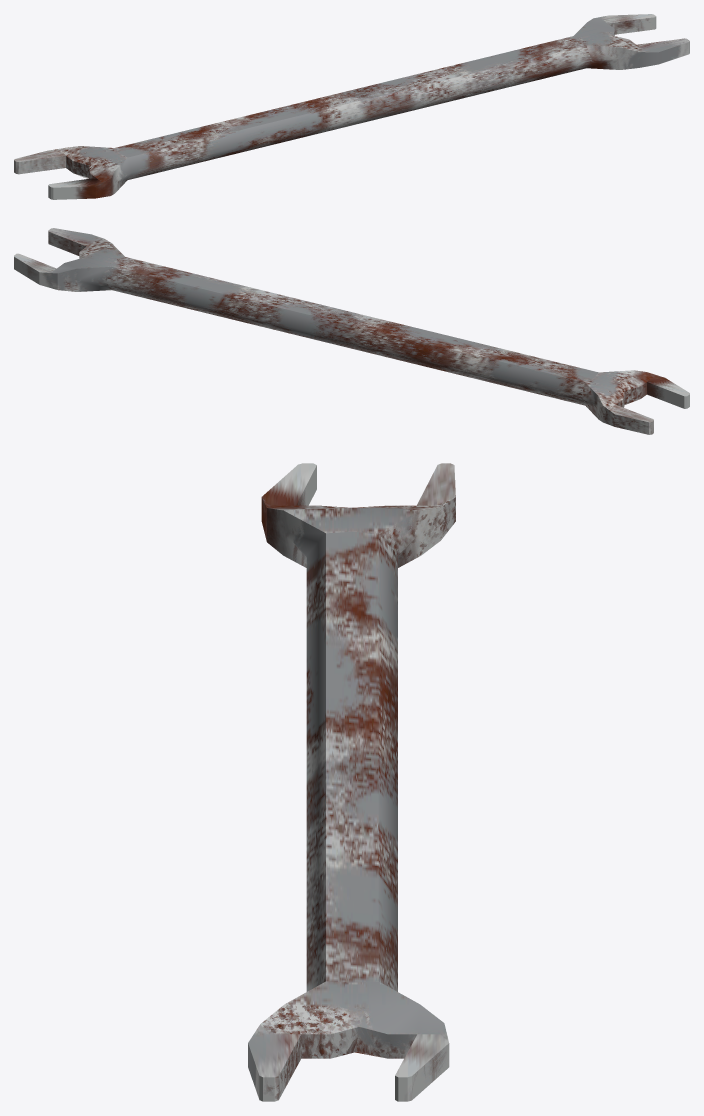
Rendered from wrench0.obj.
3 renders of one model, top to bottom at view 1: azimuth 30°, elevation 25°; view 2: azimuth 150°, elevation 25°; view 3: azimuth 270°, elevation 25°, orthographic. The views are drawn at different scales.
Parts seen in each view (by area): view 1: g_pCube2_group1_pCube2_group1; view 2: g_pCube2_group1_pCube2_group1; view 3: g_pCube2_group1_pCube2_group1.
Boxes of the visible parts, bbox=[...] form: g_pCube2_group1_pCube2_group1: bbox=[14, 14, 689, 199]; g_pCube2_group1_pCube2_group1: bbox=[14, 228, 689, 434]; g_pCube2_group1_pCube2_group1: bbox=[248, 463, 455, 1101].
Bounding box in the file's own units: 1.65 × 0.0567 × 0.2358.
1 material, 1 textured.
